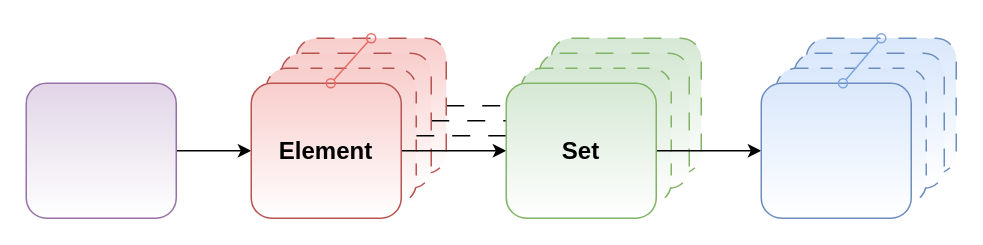
Some shapes in this 983 by 245 pixel diagram are drawn without their labels. The centre of each missing label's shape, as x and y in pixels:
"Dimension" goes at pixel 835 150.
"ElementList" goes at pixel 100 150.
